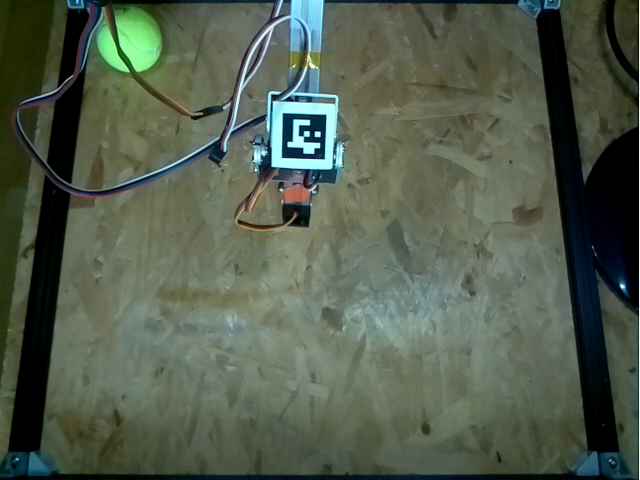tennis_ball: (96, 8, 162, 72)
